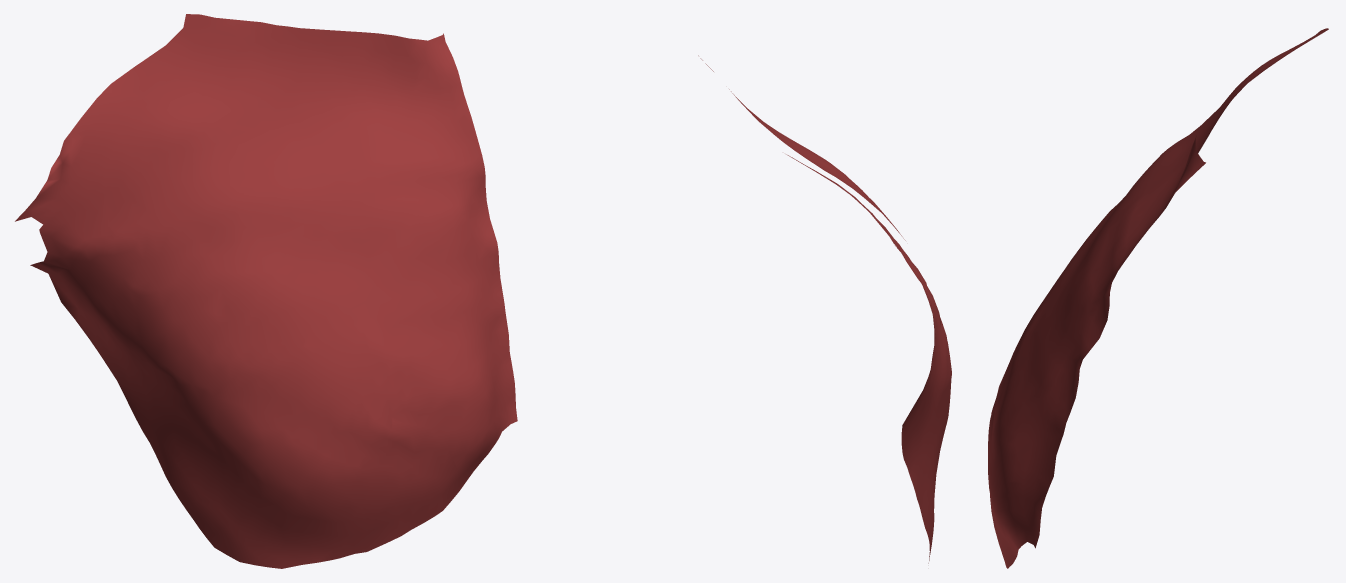
Rendered from pectoral-fascia-r.glb.
3 views of the same model, side by side, from view 1: azimuth 30°, elevation 25°; view 2: azimuth 150°, elevation 25°; view 3: azimuth 270°, elevation 25° (orthographic). The views are drawn at different scales.
Visible parts, largest first — view 1: Pectoral fascia.r; view 2: Pectoral fascia.r; view 3: Pectoral fascia.r.
Boxes of the visible parts, x1,y1,x2,y2 form: Pectoral fascia.r: [15, 14, 517, 568]; Pectoral fascia.r: [698, 55, 951, 563]; Pectoral fascia.r: [988, 28, 1328, 568].
Size of the model in its own units: 0.1723 by 0.1969 by 0.1155.
